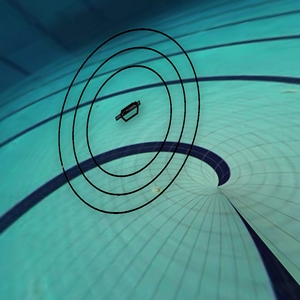circle: (43, 21, 234, 224)
submarine: (110, 94, 146, 128)
